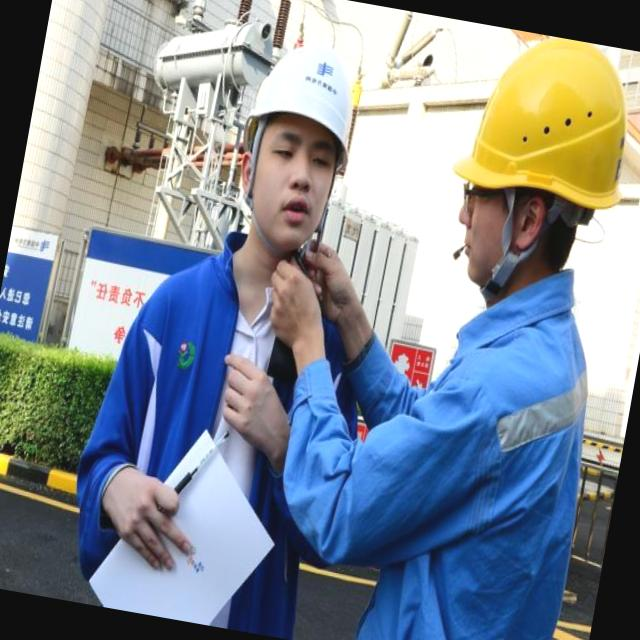helmet: (446, 28, 640, 220), (232, 34, 374, 187)
no-vest: (102, 264, 348, 582)
vest: (339, 285, 596, 640)
